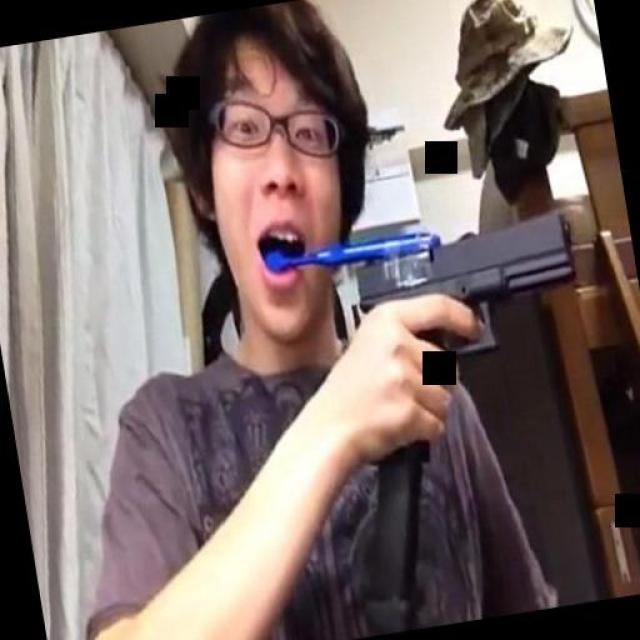gun: (338, 196, 606, 472)
